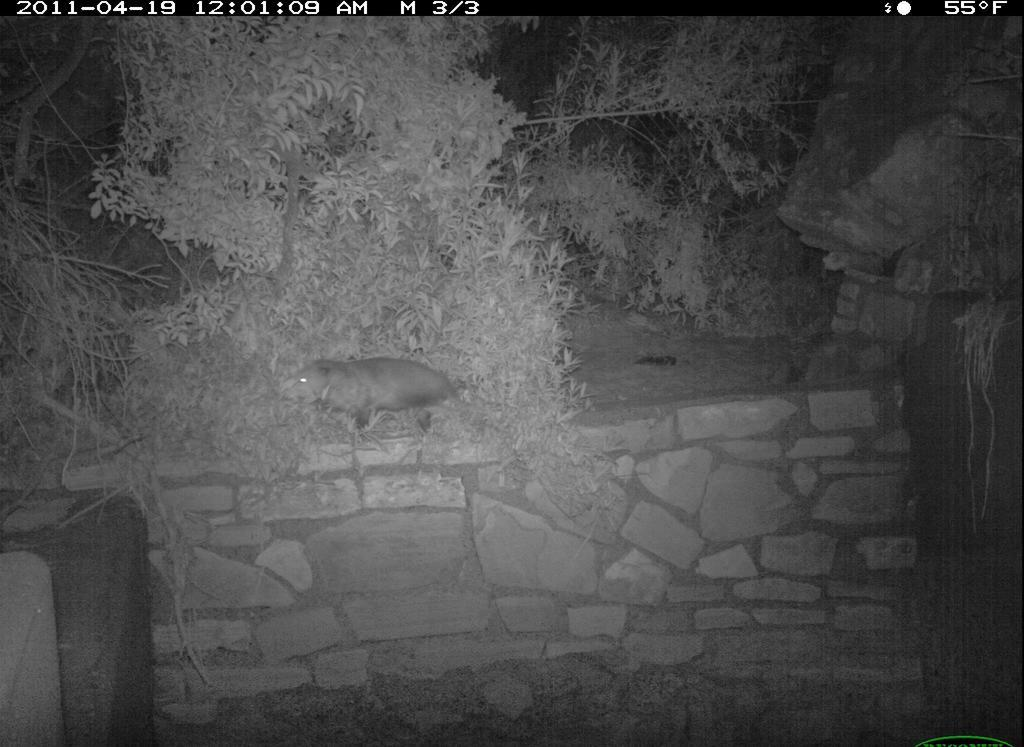opossum: (281, 351, 474, 438)
